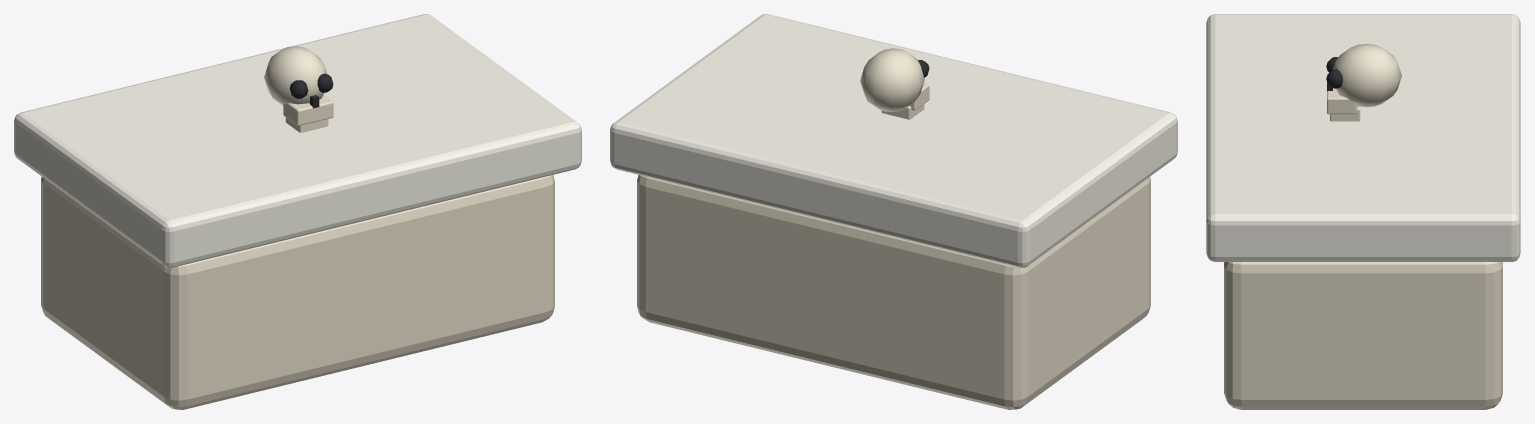
File: reliquary_bone_box.glb
3 views of the same model, side by side, from view 1: azimuth 30°, elevation 25°; view 2: azimuth 150°, elevation 25°; view 3: azimuth 270°, elevation 25° (orthographic).
Visible parts, largest first — view 1: GD_reliquary_bone_box__m1, GD_reliquary_bone_box__m0, GD_reliquary_bone_box__m2; view 2: GD_reliquary_bone_box__m1, GD_reliquary_bone_box__m0; view 3: GD_reliquary_bone_box__m1, GD_reliquary_bone_box__m0, GD_reliquary_bone_box__m2.
Part boxes in pixels (bbox=[...]): GD_reliquary_bone_box__m1: bbox=[14, 14, 581, 267]; GD_reliquary_bone_box__m0: bbox=[41, 46, 554, 409]; GD_reliquary_bone_box__m2: bbox=[289, 73, 333, 108]; GD_reliquary_bone_box__m1: bbox=[610, 14, 1177, 267]; GD_reliquary_bone_box__m0: bbox=[637, 48, 1150, 409]; GD_reliquary_bone_box__m1: bbox=[1206, 14, 1520, 261]; GD_reliquary_bone_box__m0: bbox=[1224, 44, 1502, 409]; GD_reliquary_bone_box__m2: bbox=[1326, 57, 1342, 91].
Size of the model in its own units: 0.28 by 0.1727 by 0.18.
